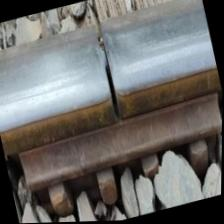person: (15, 0, 199, 159)
